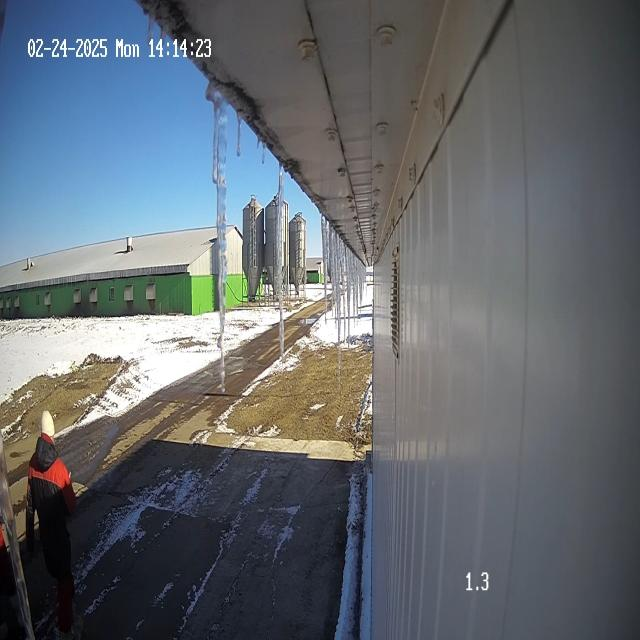Red uniform: (25, 411, 81, 639)
